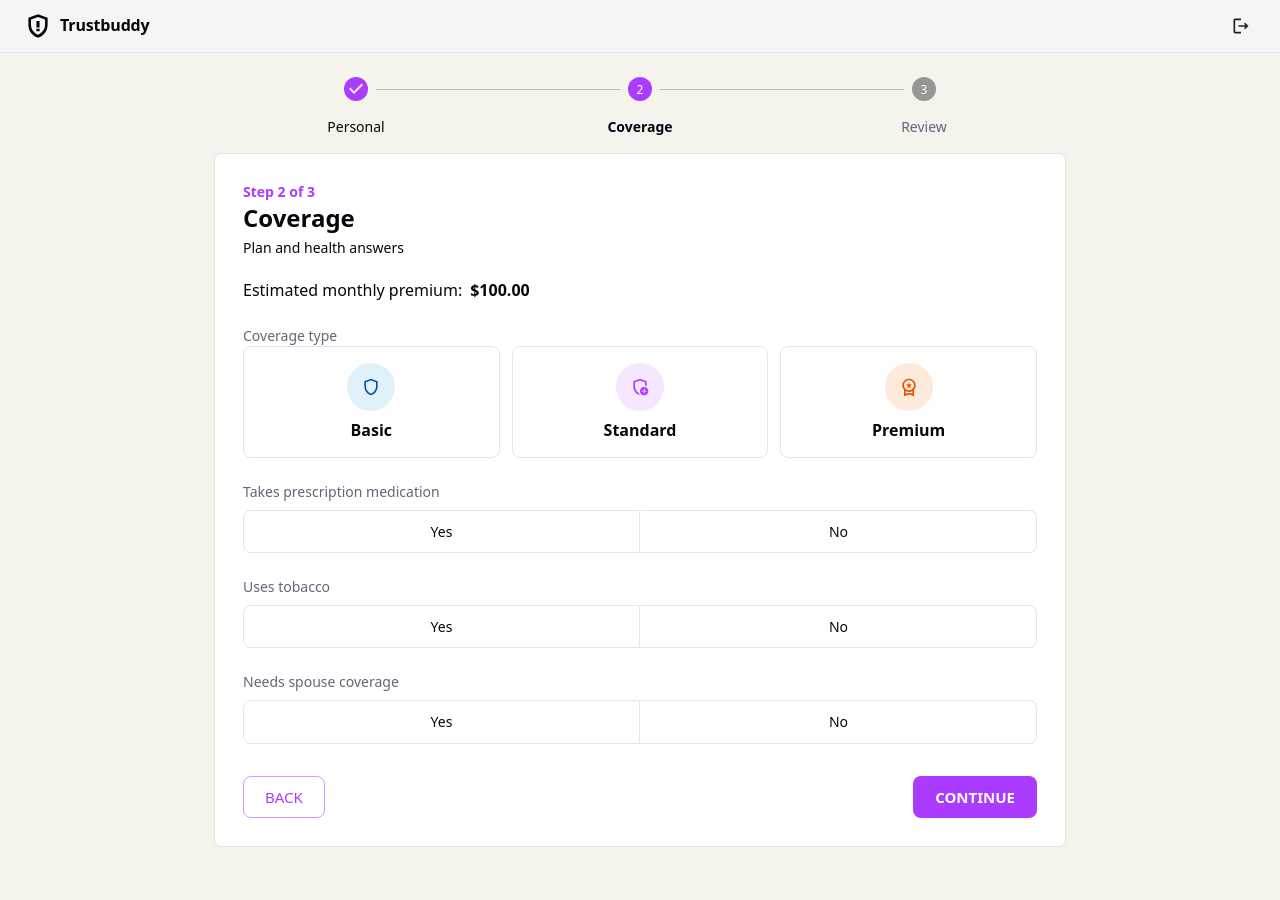
Test: wizard routes › given_draftQuote_when_coverageSaved_then_patchesAndAdvancesToReview
Expected: the element named "coverage type" is shown, [243,346,1037,458]
Click the radio button labelled "Standard".
click(640, 402)  # box [604,363,676,441]
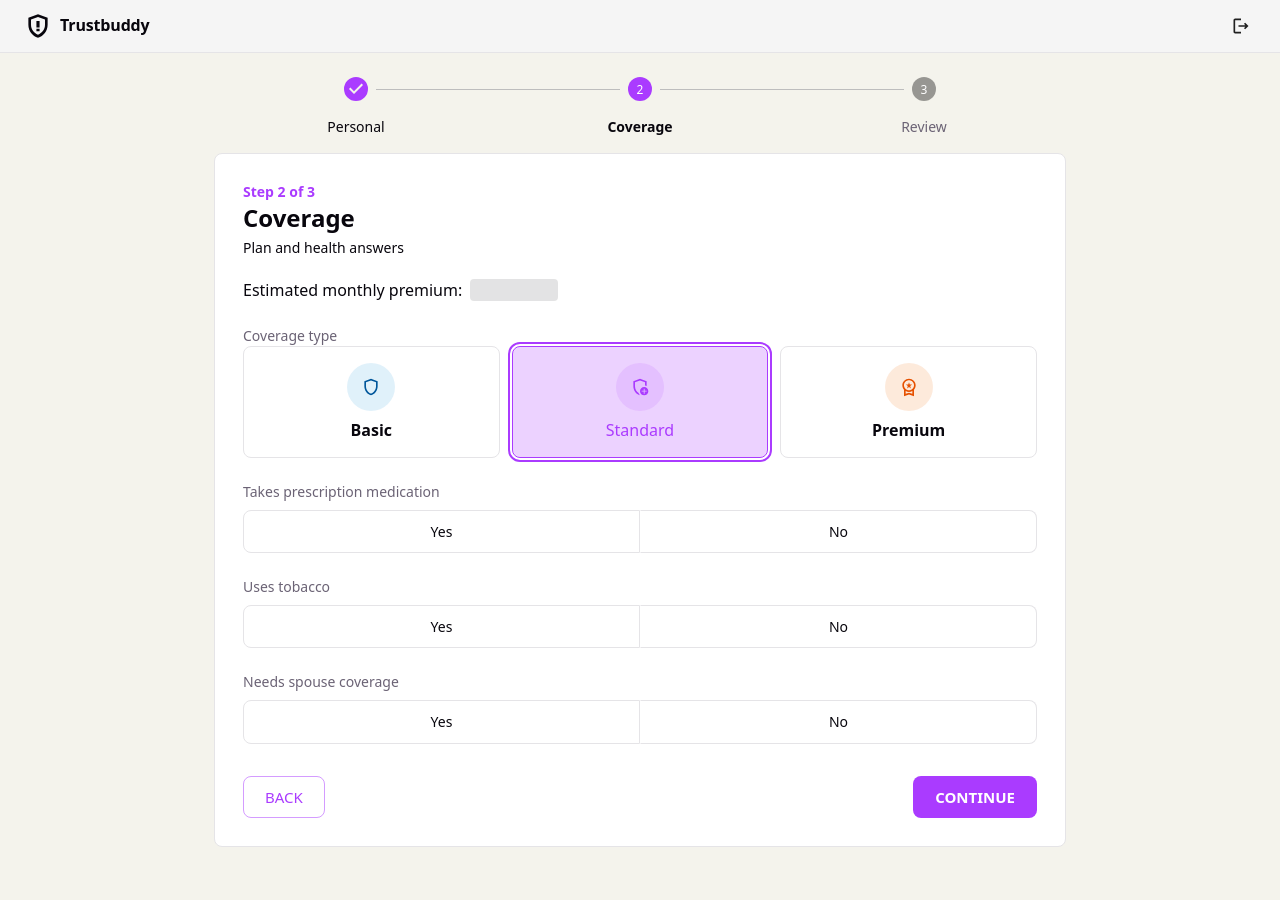
Click the button with aria-label "takes prescription medication, no".
click(838, 531)  # box [640,510,1037,553]
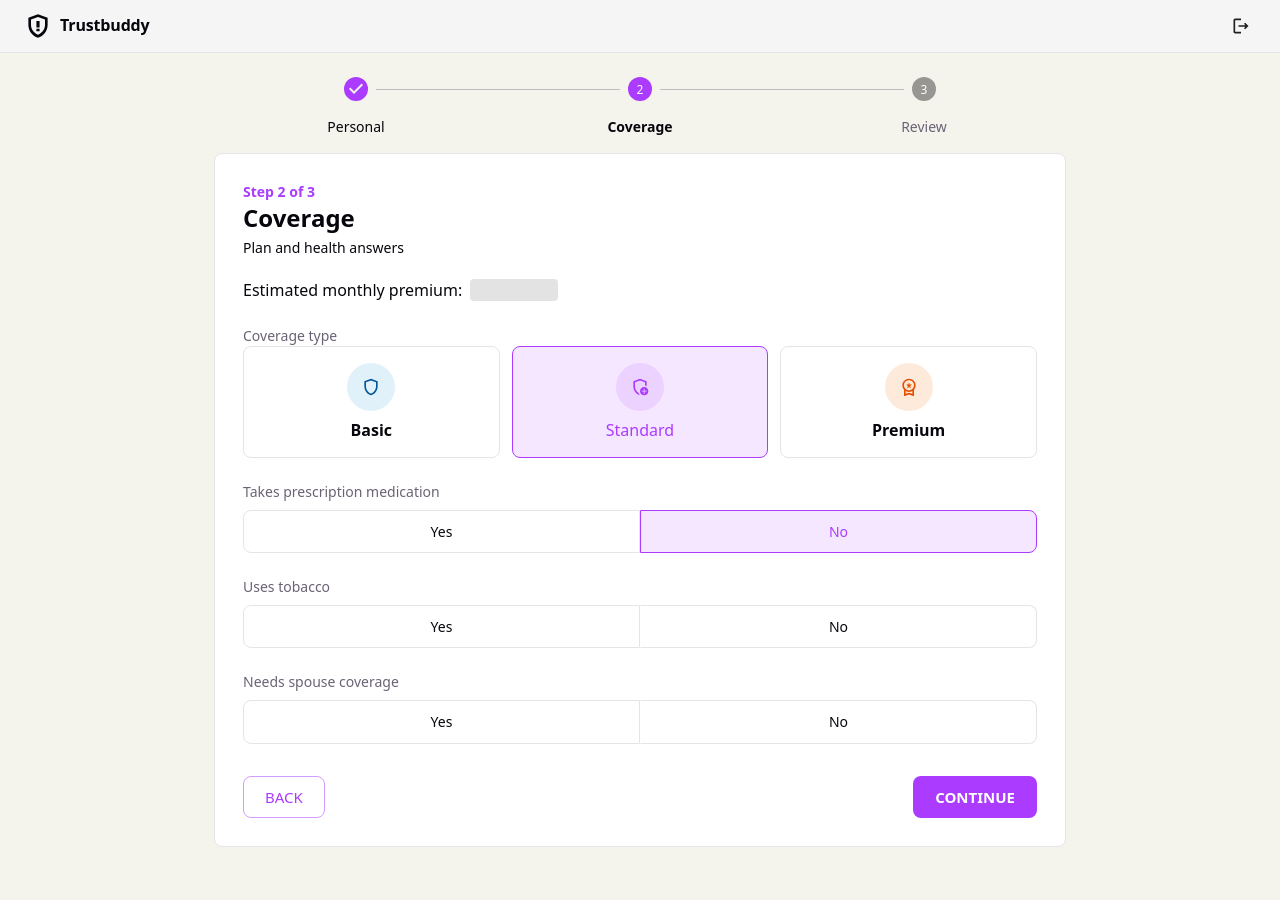
Click the button with aria-label "uses tobacco, yes".
click(442, 627)  # box [243,605,640,648]
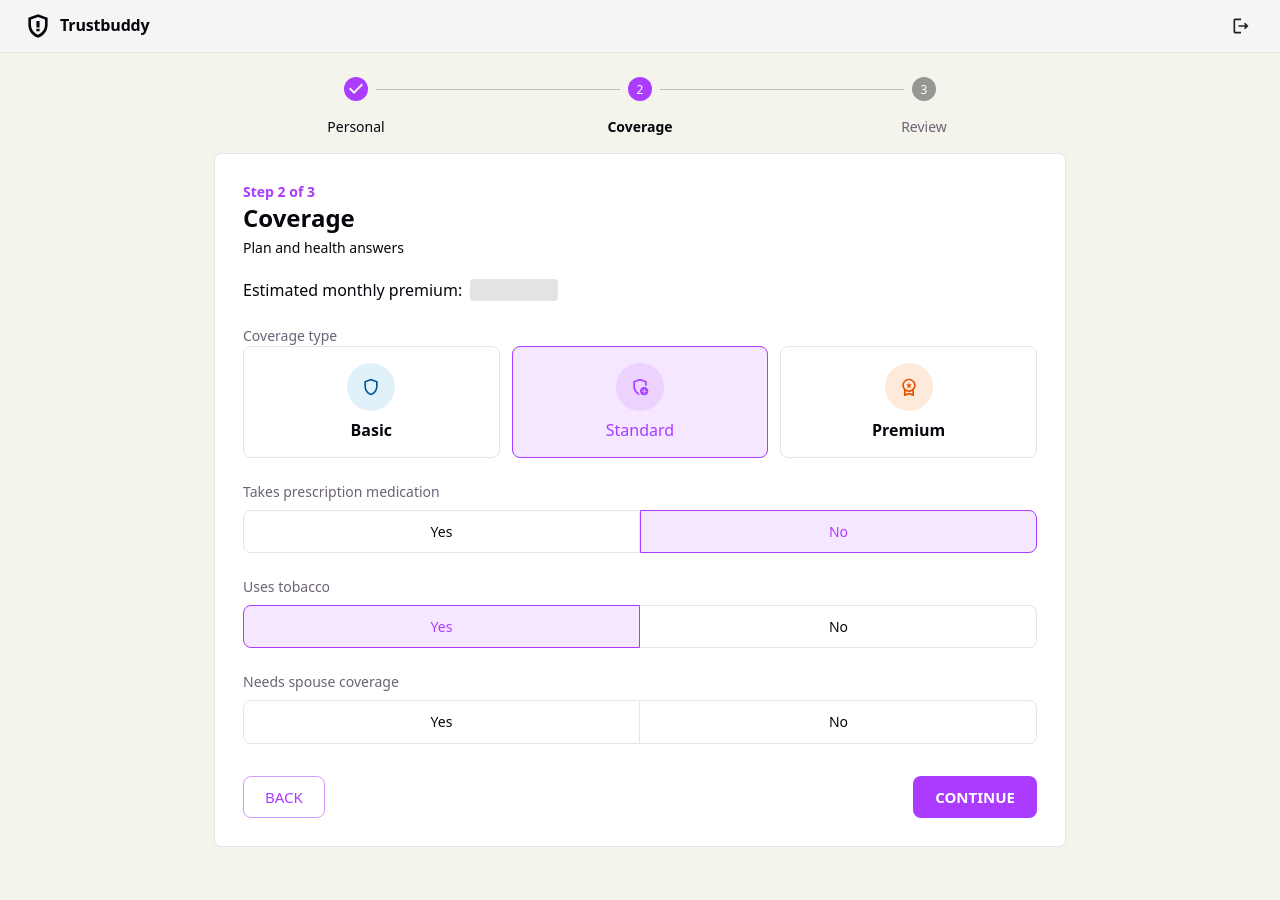
Click the button with aria-label "needs spouse coverage, no".
click(838, 722)  # box [640,700,1037,744]
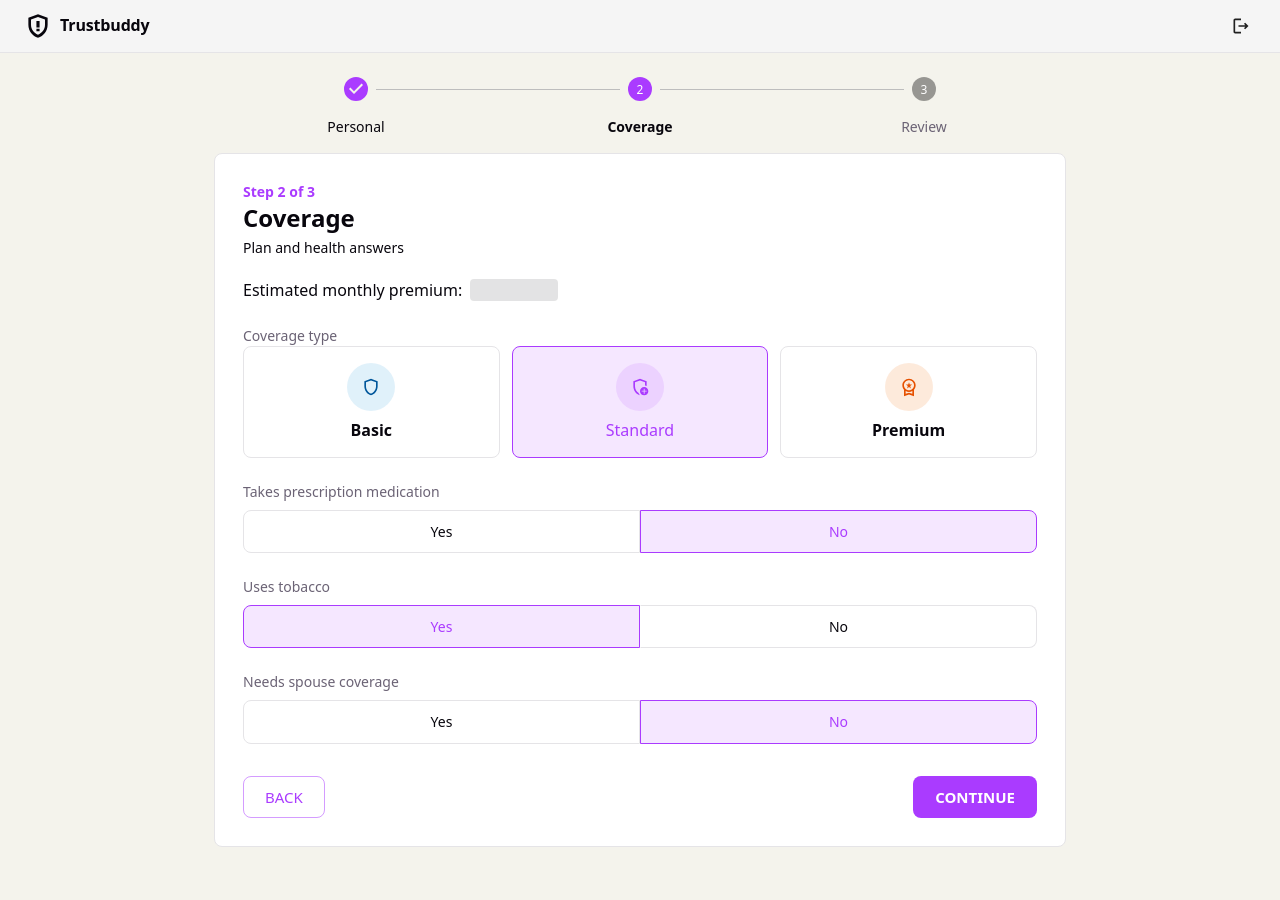
Click the button "Continue".
click(975, 797)  # box [913,776,1037,818]
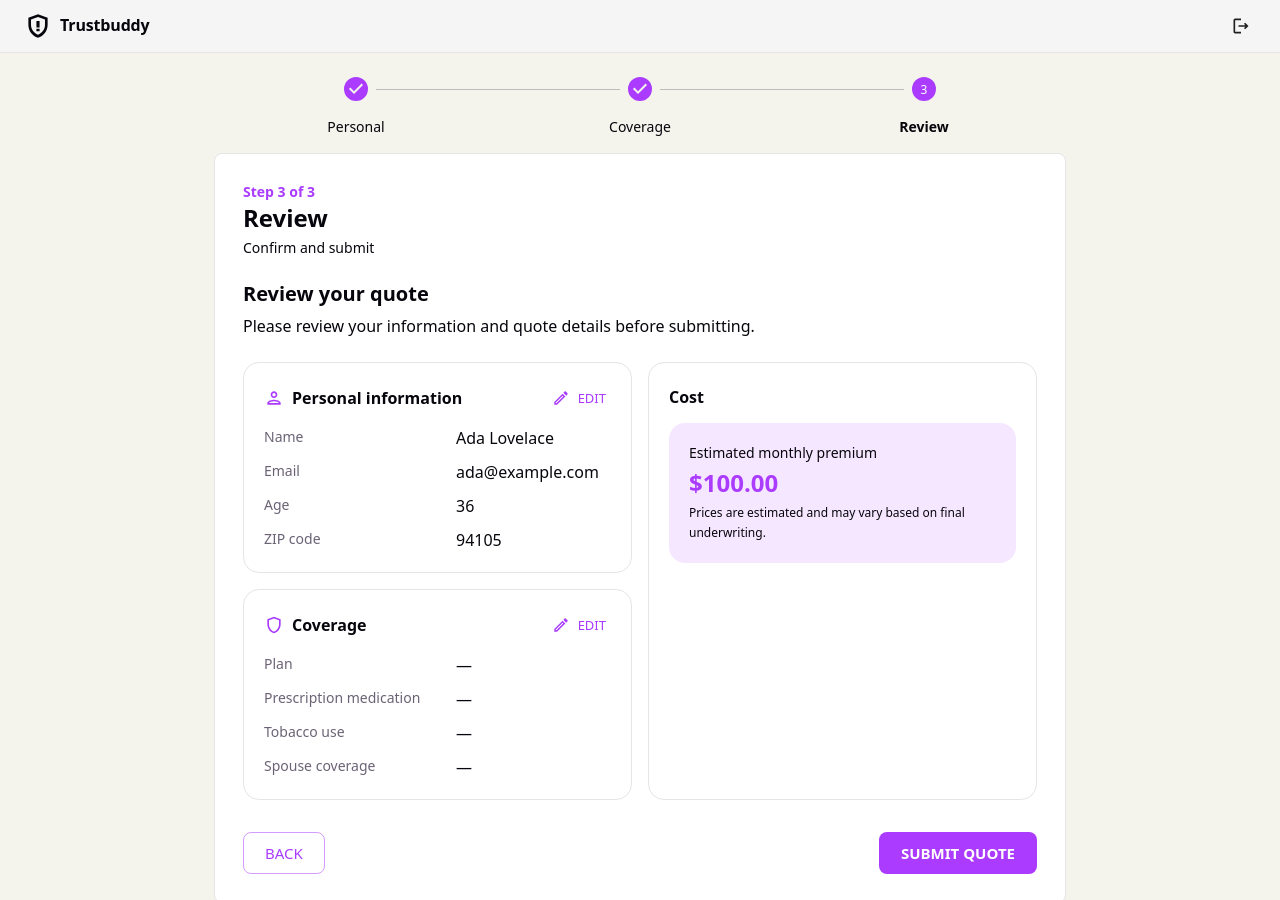
Now the heading "Review your quote" is shown, box [243,280,429,307]
